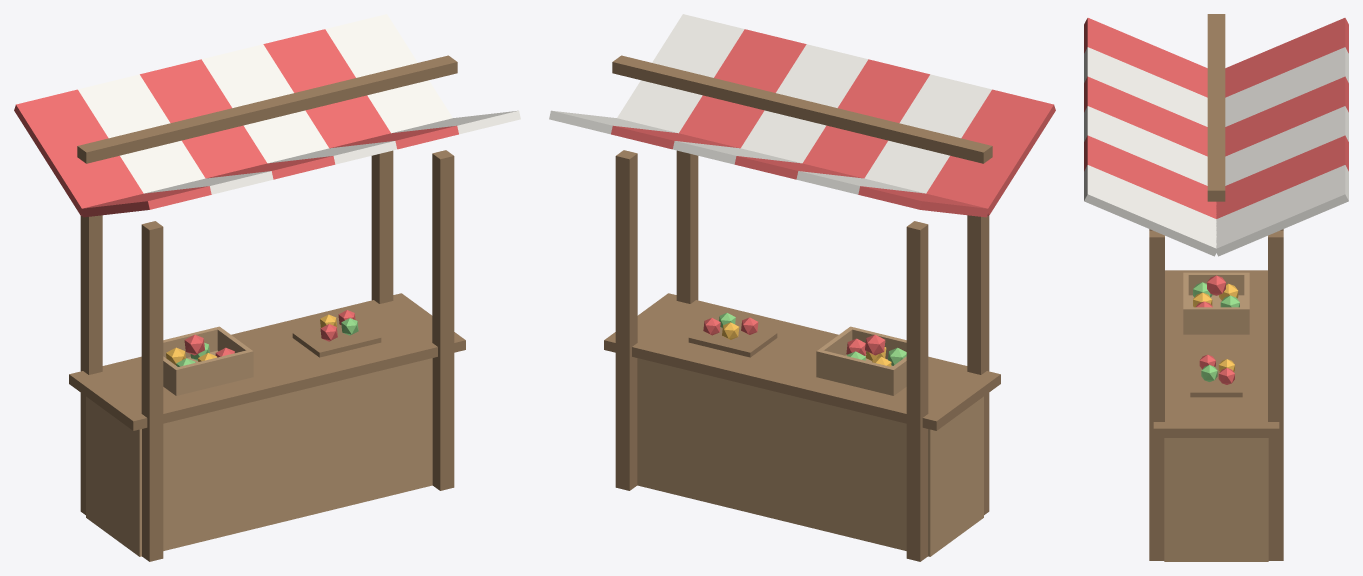
Rendered from th3_marktstand.glb.
The picture shows the model from 3 angles, left to right: view 1: azimuth 30°, elevation 25°; view 2: azimuth 150°, elevation 25°; view 3: azimuth 270°, elevation 25°; orthographic projection. The views are drawn at different scales.
Parts seen in each view (by area): view 1: Tresen_Korpus, Tresen_Platte, First, Pfosten_1, Pfosten_3, Dach_v_0, Dach_v_5, Dach_v_1, Dach_v_3, Dach_v_4, Dach_v_2, Pfosten_2 (+10 smaller); view 2: Tresen_Korpus, Tresen_Platte, First, Pfosten_0, Pfosten_2, Dach_h_0, Dach_h_5, Dach_h_1, Dach_h_3, Dach_h_4, Dach_h_2, Pfosten_3 (+9 smaller); view 3: Tresen_Korpus, Tresen_Platte, Dach_v_5, Dach_h_5, Pfosten_0, Pfosten_1, Dach_v_4, Dach_h_4, Dach_v_0, Dach_v_2, Dach_h_0, Dach_h_2 (+11 smaller).
Boxes of the visible parts, x1,y1,x2,y2 form: Tresen_Korpus: [86, 358, 432, 556]; Tresen_Platte: [69, 293, 465, 430]; First: [77, 55, 457, 163]; Pfosten_1: [432, 150, 454, 490]; Pfosten_3: [141, 221, 163, 561]; Dach_v_0: [14, 89, 143, 215]; Dach_v_5: [325, 14, 452, 133]; Dach_v_1: [78, 74, 205, 193]; Dach_v_3: [202, 44, 328, 163]; Dach_v_4: [263, 29, 390, 148]; Dach_v_2: [140, 59, 267, 178]; Pfosten_2: [80, 215, 102, 514]; Tresen_Korpus: [637, 358, 983, 556]; Tresen_Platte: [604, 293, 1000, 430]; First: [612, 55, 992, 163]; Pfosten_0: [615, 150, 637, 490]; Pfosten_2: [906, 221, 928, 561]; Dach_h_0: [926, 89, 1055, 215]; Dach_h_5: [617, 14, 744, 133]; Dach_h_1: [864, 74, 991, 193]; Dach_h_3: [741, 44, 867, 163]; Dach_h_4: [679, 29, 806, 148]; Dach_h_2: [802, 59, 929, 178]; Pfosten_3: [967, 215, 989, 514]; Tresen_Korpus: [1164, 438, 1268, 561]; Tresen_Platte: [1153, 270, 1279, 437]; Dach_v_5: [1215, 165, 1348, 256]; Dach_h_5: [1084, 165, 1216, 256]; Pfosten_0: [1268, 230, 1283, 560]; Pfosten_1: [1149, 230, 1164, 560]; Dach_v_4: [1216, 135, 1348, 218]; Dach_h_4: [1084, 135, 1216, 218]; Dach_v_0: [1225, 18, 1348, 97]; Dach_v_2: [1225, 76, 1348, 156]; Dach_h_0: [1084, 18, 1207, 97]; Dach_h_2: [1084, 76, 1207, 156].
Size of the model in its own units: 2.4 by 2.45 by 1.52.
